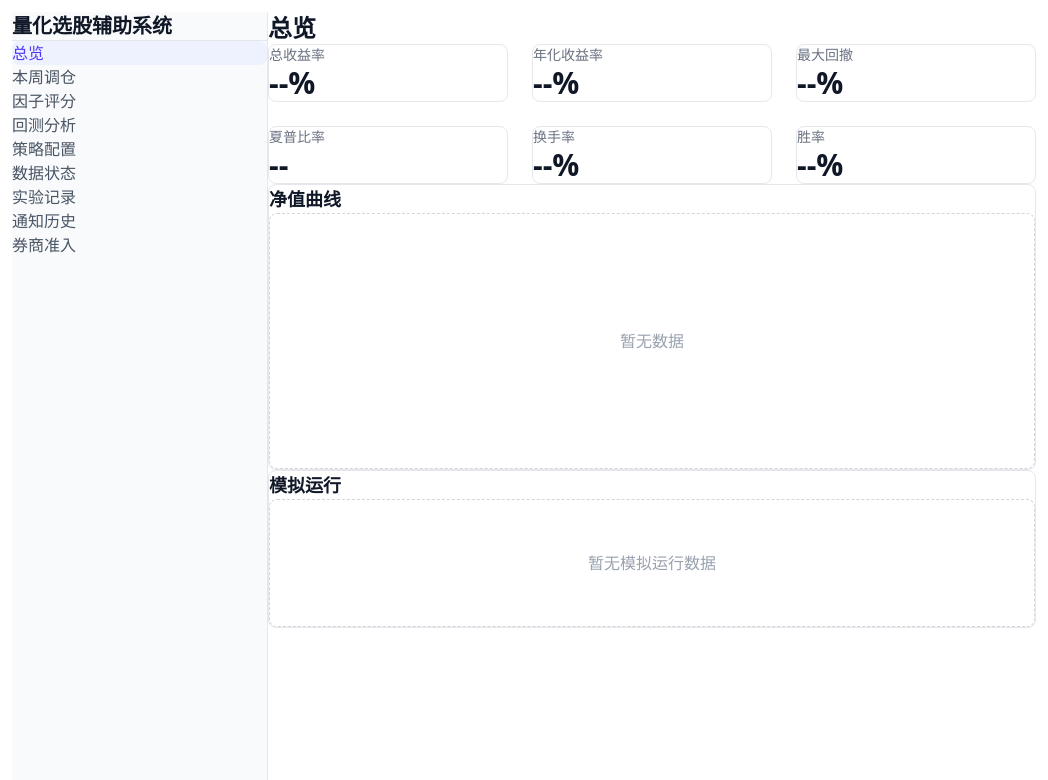
Test case: App workspace navigation › switches to the broker readiness page
Click the button "券商准入": (140, 245) [12,233,267,257]
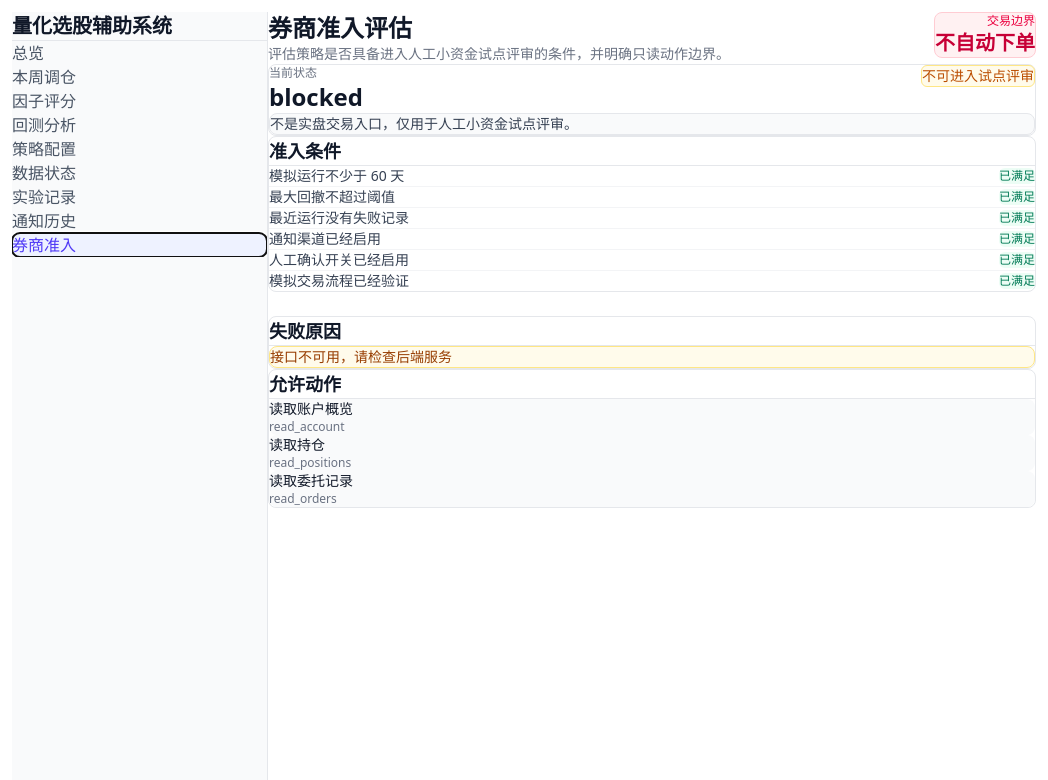
Expected: the heading "券商准入评估" is shown, [268,11,412,44]
